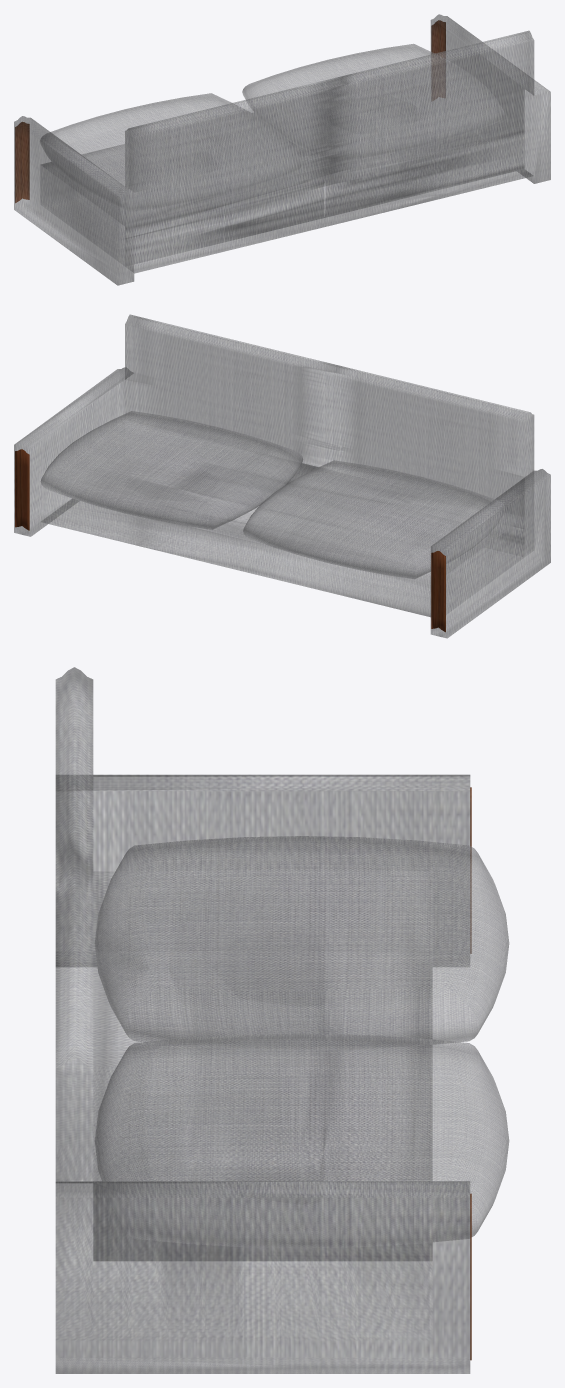
File: thesofa2.glb
The picture shows the model from 3 angles, top to bottom: view 1: azimuth 30°, elevation 25°; view 2: azimuth 150°, elevation 25°; view 3: azimuth 270°, elevation 25°; orthographic projection. The views are drawn at different scales.
Visible parts, largest first — view 1: couchArm; view 2: couchArm; view 3: couchArm.
Part boxes in pixels (x1=…): couchArm: x1=14, y1=14, x2=550, y2=285; couchArm: x1=14, y1=314, x2=550, y2=638; couchArm: x1=55, y1=667, x2=509, y2=1373.
Bounding box in the file's own units: 0.7723 × 0.2557 × 0.3502.
Materials: 2 (2 with a texture image).
